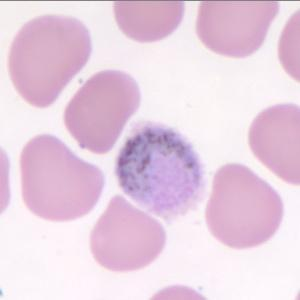Infected: (113, 120, 208, 224)
Uninfected: (11, 16, 93, 109), (20, 134, 106, 218), (203, 161, 285, 249), (65, 68, 141, 153), (91, 196, 165, 275), (197, 0, 280, 58), (249, 104, 300, 185)
